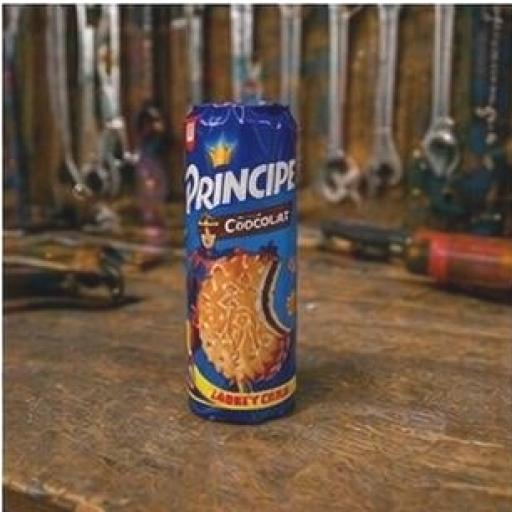prince: (132, 74, 377, 440)
